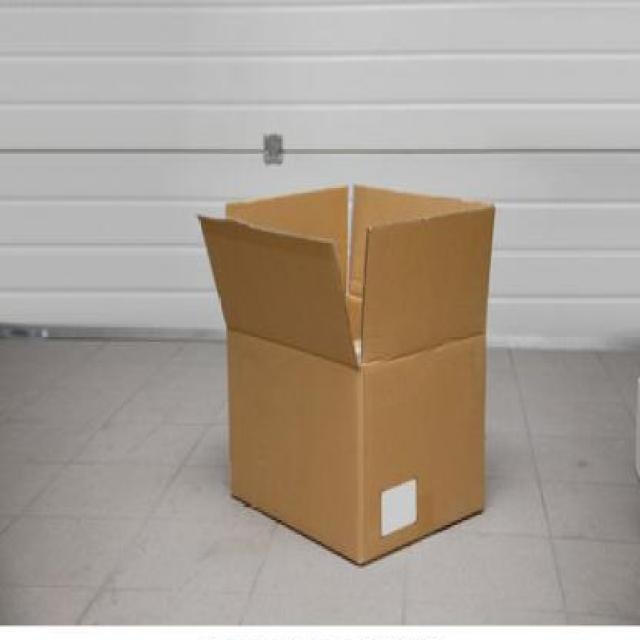box: (195, 181, 496, 572)
